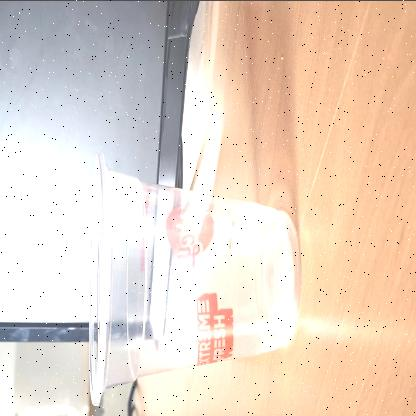Others: (87, 151, 301, 407)
